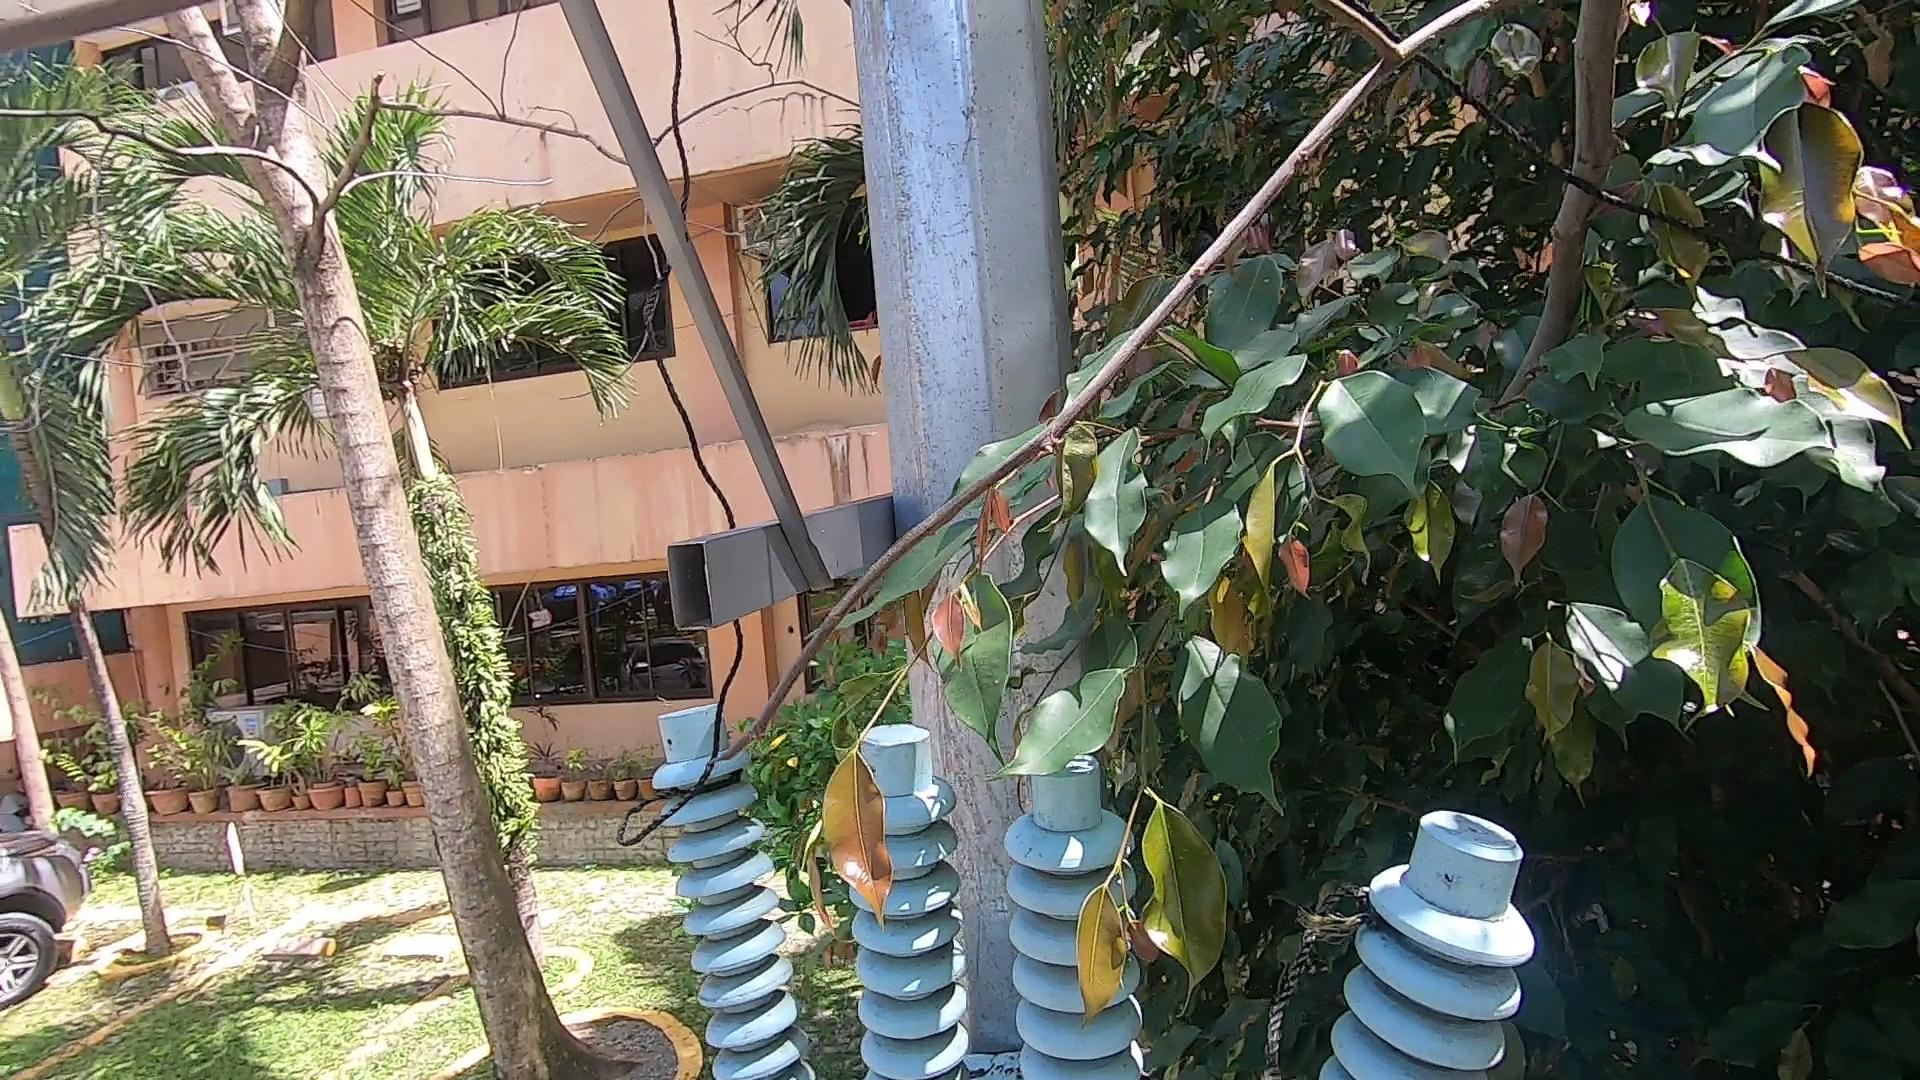tree branch: (704, 1, 1692, 808)
